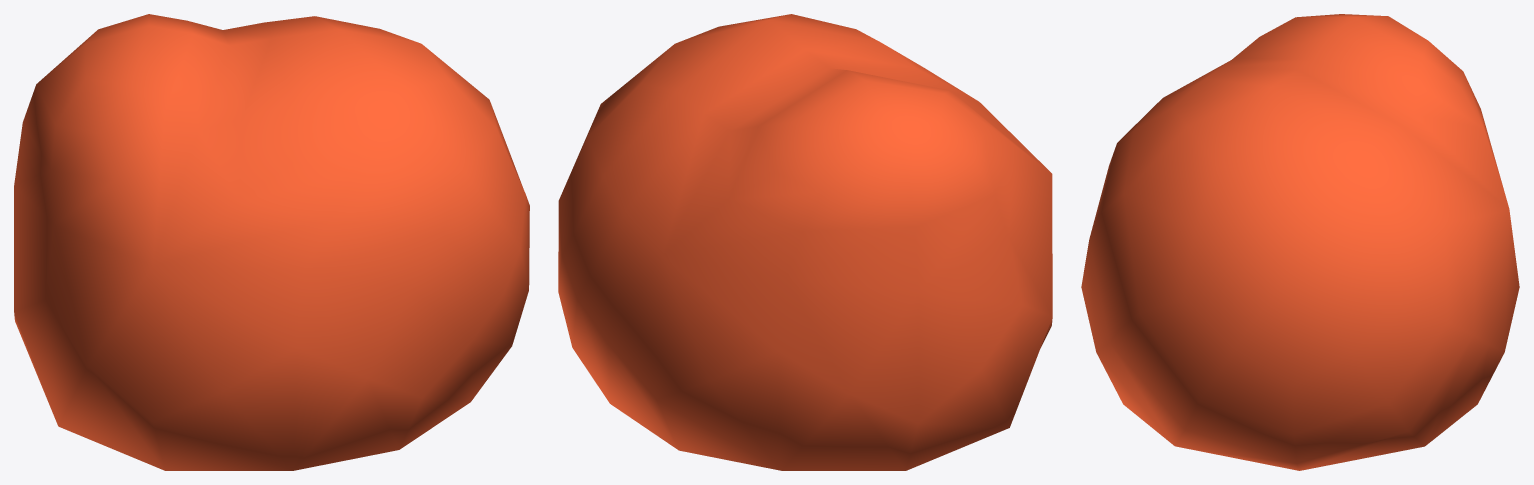
3 renders of one model, left to right at view 1: azimuth 30°, elevation 25°; view 2: azimuth 150°, elevation 25°; view 3: azimuth 270°, elevation 25°, orthographic. The views are drawn at different scales.
Visible parts, largest first — view 1: Roca02; view 2: Roca02; view 3: Roca02.
Part boxes in pixels (<box>): Roca02: <box>14,14,529,470</box>; Roca02: <box>558,14,1052,470</box>; Roca02: <box>1081,14,1519,470</box>.
Bounding box in the file's own units: 58.86 × 47.19 × 53.49.
